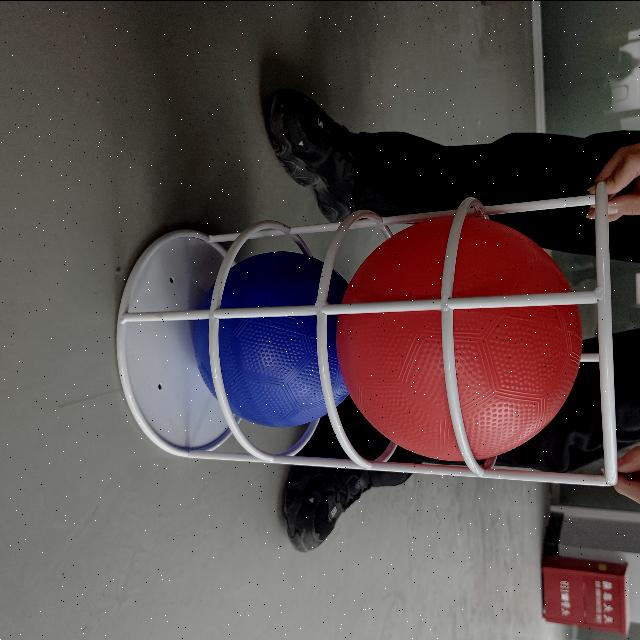B: (192, 248, 348, 424)
R: (322, 192, 588, 474)
S: (118, 177, 628, 495)
